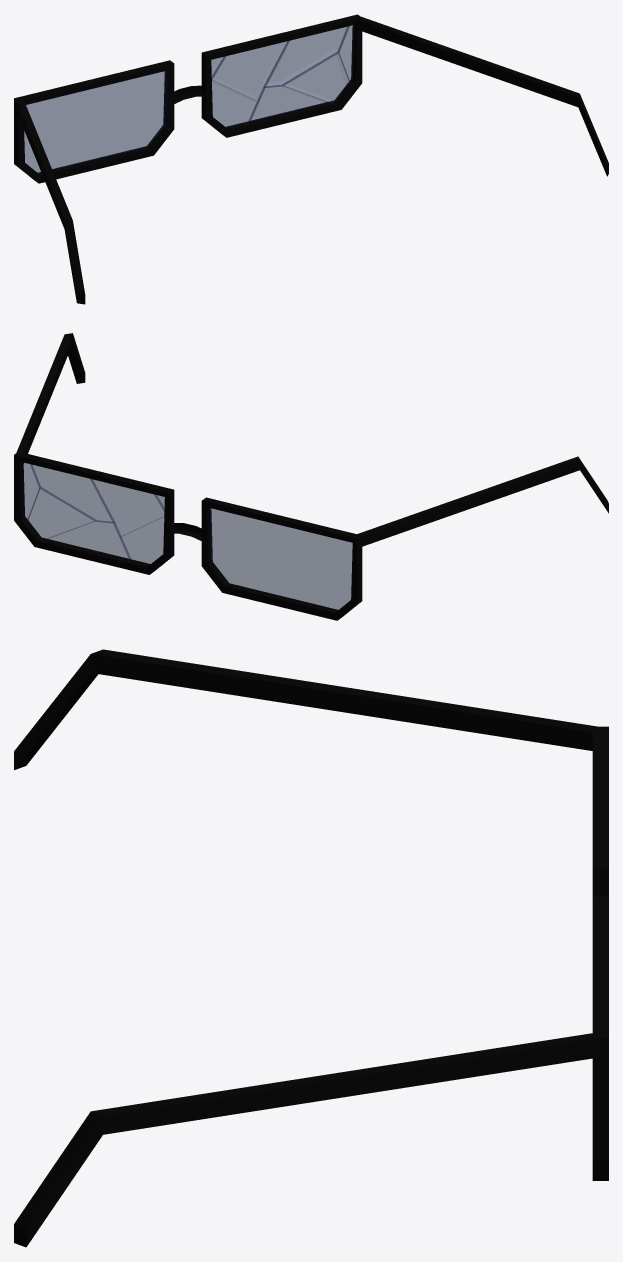
Rendered from aee.obj.
The picture shows the model from 3 angles, top to bottom: view 1: azimuth 30°, elevation 25°; view 2: azimuth 150°, elevation 25°; view 3: azimuth 270°, elevation 25°; orthographic projection. The views are drawn at different scales.
Parts seen in each view (by area): view 1: Squarelens1, Squareglasses1; view 2: Squarelens1, Squareglasses1; view 3: Squareglasses1.
Boxes of the visible parts, box(x1,y1,x2,y2) form: Squarelens1: box(24, 25, 354, 173); Squareglasses1: box(14, 14, 608, 304); Squarelens1: box(23, 463, 352, 609); Squareglasses1: box(14, 333, 608, 620); Squareglasses1: box(14, 649, 608, 1247).
Size of the model in its own units: 1.33 by 0.2074 by 0.6917.
